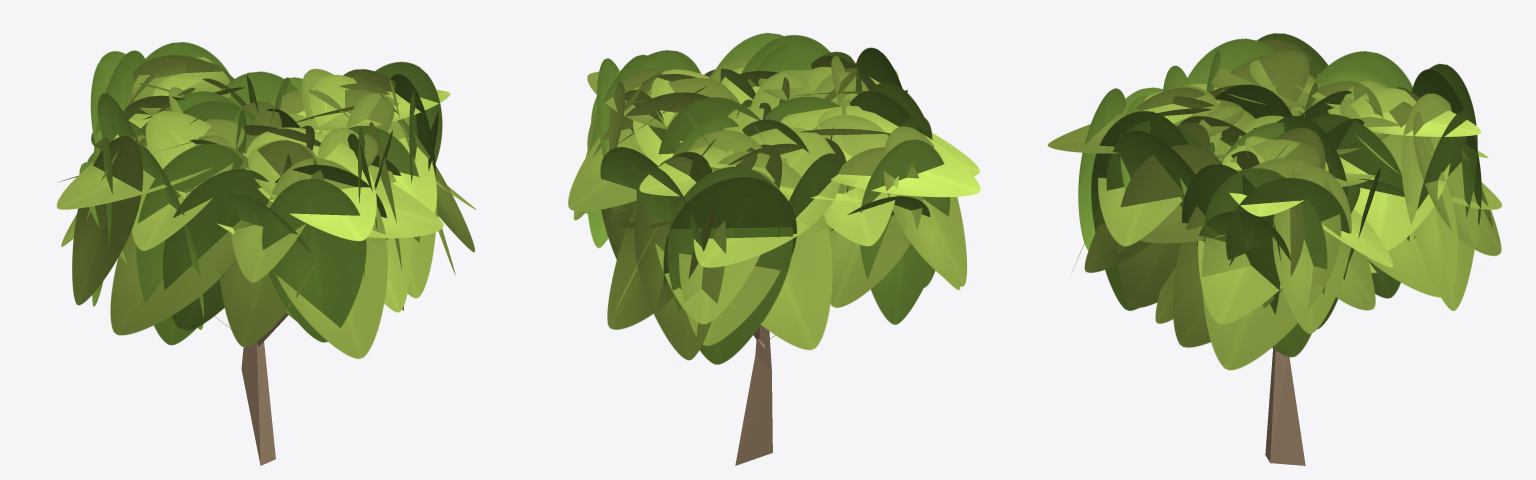
The model's file is tree_broad_lime_lod2.glb.
3 views of the same model, side by side, from view 1: azimuth 30°, elevation 25°; view 2: azimuth 150°, elevation 25°; view 3: azimuth 270°, elevation 25° (orthographic).
Parts seen in each view (by area): view 1: foliage, trunk; view 2: foliage, trunk; view 3: foliage, trunk.
Part boxes in pixels (<box>): foliage: <box>56,42,476,358</box>; trunk: <box>214,312,288,465</box>; foliage: <box>568,33,980,364</box>; trunk: <box>735,325,775,465</box>; foliage: <box>1047,33,1502,370</box>; trunk: <box>1265,348,1305,465</box>.
Bounding box in the file's own units: 6.77 × 5.91 × 6.66.
3 materials, 2 textured.
